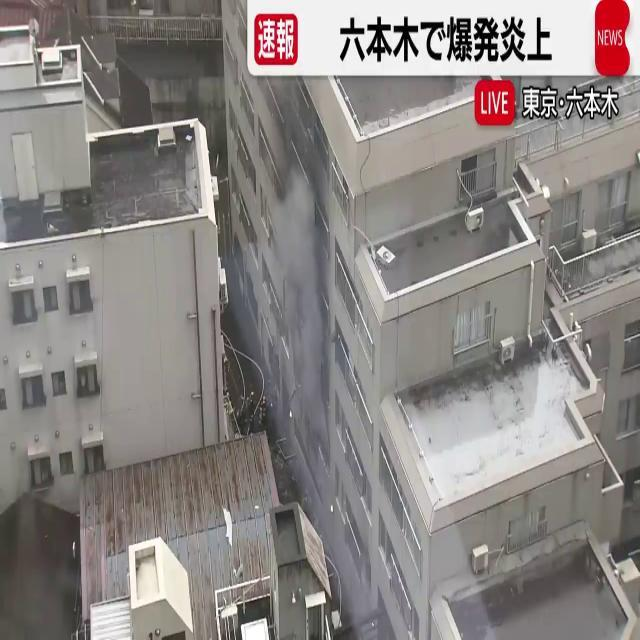Smoke: (266, 160, 336, 442)
